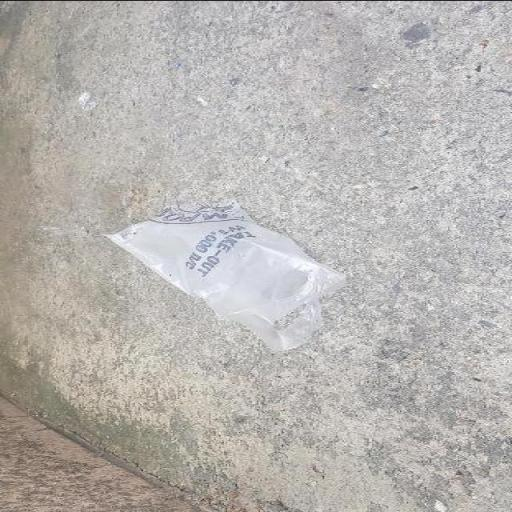plastic-bag: (100, 188, 350, 352)
